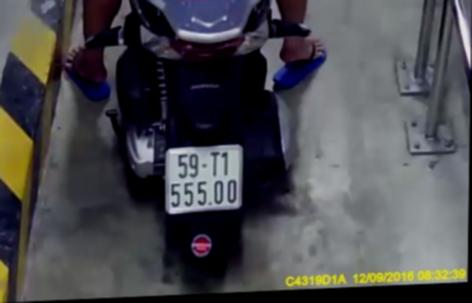License_Plate: (156, 138, 254, 218)
